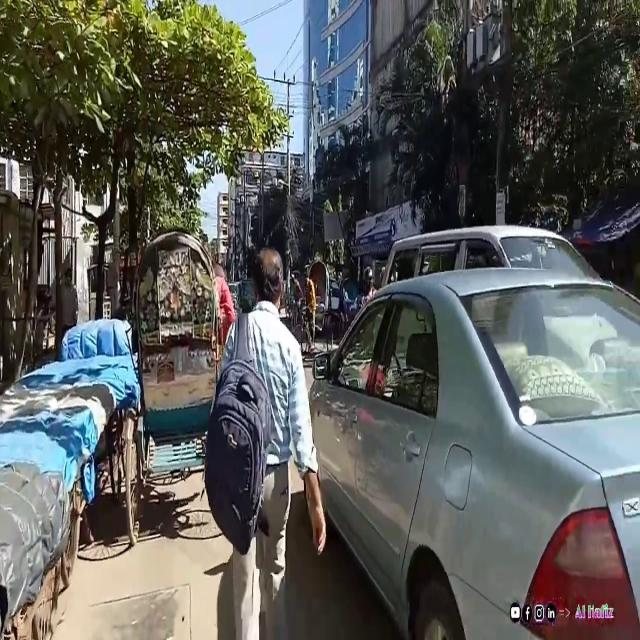silver: (304, 261, 640, 640)
